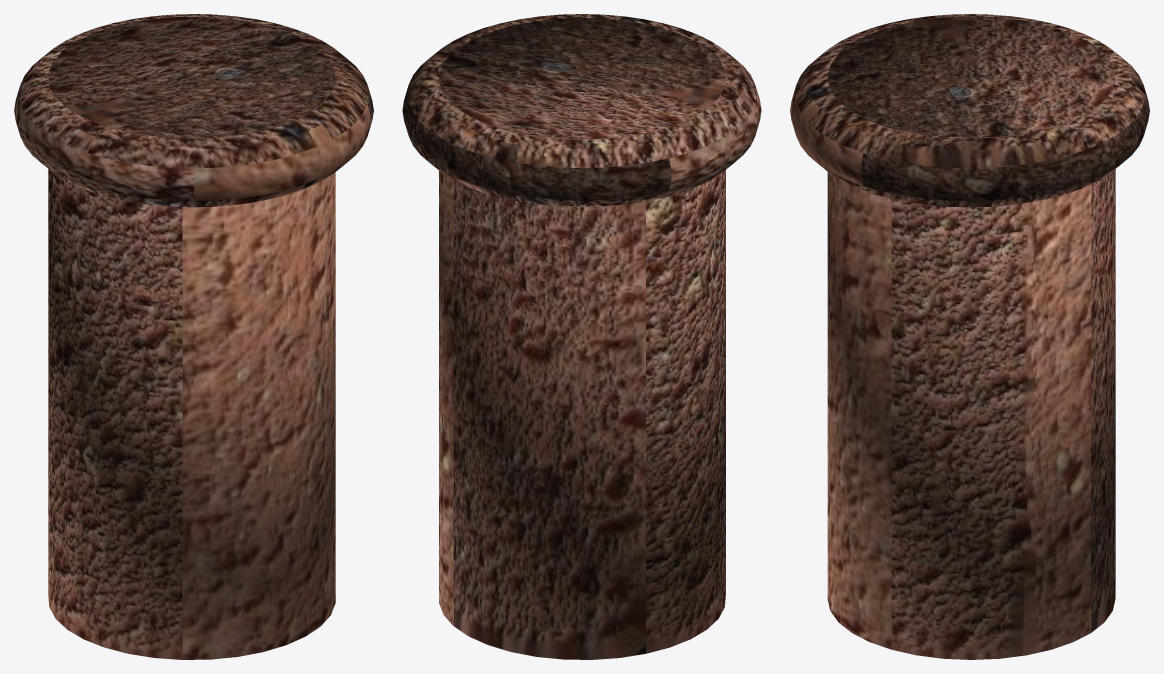
Rendered from Pillar.fbx.
3 views of the same model, side by side, from view 1: azimuth 30°, elevation 25°; view 2: azimuth 150°, elevation 25°; view 3: azimuth 270°, elevation 25° (orthographic).
Visible parts, largest first — view 1: Torus; view 2: Torus; view 3: Torus.
Part boxes in pixels (box(x1,y1,x2,y2)): Torus: box(14, 14, 373, 659); Torus: box(402, 14, 761, 659); Torus: box(790, 14, 1149, 659).
Size of the model in its own units: 250 by 400 by 250.
Materials: 1 (1 with a texture image).
